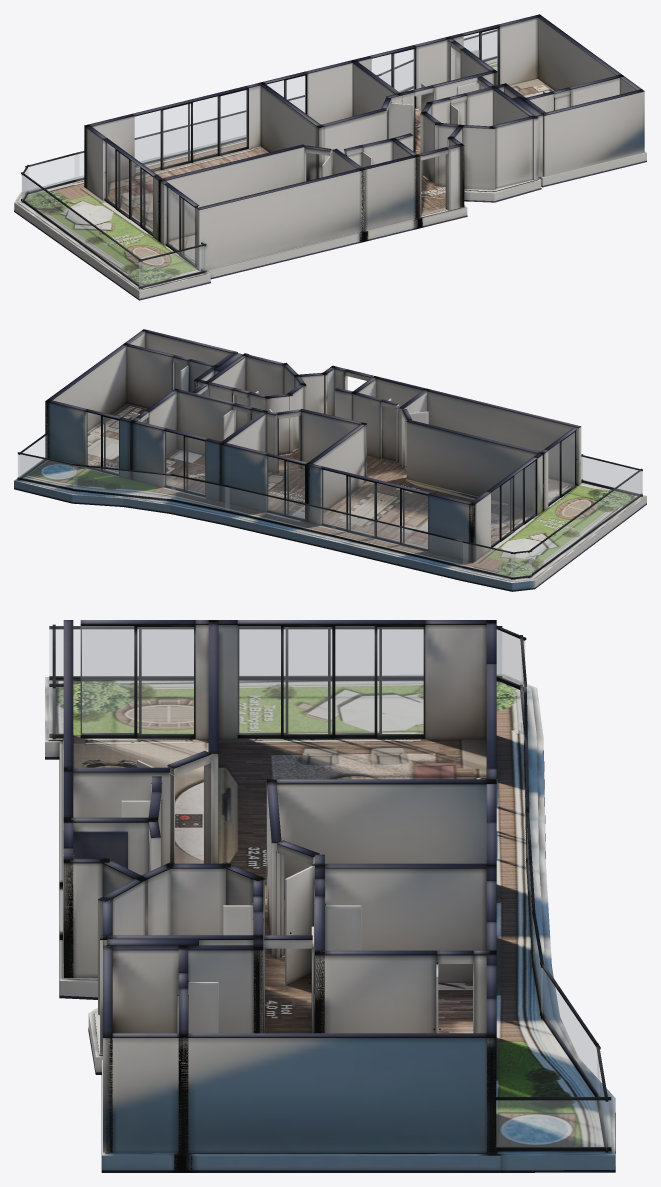
3 renders of one model, top to bottom at view 1: azimuth 30°, elevation 25°; view 2: azimuth 150°, elevation 25°; view 3: azimuth 270°, elevation 25°, orthographic. The views are drawn at different scales.
Parts seen in each view (by area): view 1: plan, glass0_m, railg10_m, glass1_m, railg15_m, railg5_m, glass2_m, glass4_m, railg16_m, glass5_m, railg14_m, glass3_m (+2 smaller); view 2: plan, glass0_m, railg15_m, railg10_m, railg14_m, railg13_m, glass1_m, glass4_m, glass3_m, glass5_m, railg12_m, railg5_m (+5 smaller); view 3: plan, glass1_m, railg10_m, glass2_m, railg6_m, railg13_m, railg17_m.
Boxes of the visible parts, x1,y1,x2,y2 form: plan: (14, 14, 646, 300); glass0_m: (135, 90, 246, 173); railg10_m: (22, 175, 142, 286); glass1_m: (105, 142, 152, 232); railg15_m: (75, 121, 213, 179); railg5_m: (139, 246, 206, 286); glass2_m: (166, 187, 194, 263); glass4_m: (372, 49, 414, 92); railg16_m: (26, 154, 78, 191); glass5_m: (464, 29, 497, 71); railg14_m: (221, 97, 304, 142); glass3_m: (267, 76, 305, 112); plan: (14, 329, 646, 591); glass0_m: (322, 470, 427, 548); railg15_m: (332, 511, 467, 566); railg10_m: (528, 471, 641, 575); railg14_m: (225, 487, 335, 534); railg13_m: (73, 465, 174, 499); glass1_m: (491, 461, 535, 545); glass4_m: (165, 431, 204, 494); glass3_m: (267, 456, 304, 518); glass5_m: (86, 412, 118, 473); railg12_m: (18, 454, 77, 489); railg5_m: (581, 457, 642, 494); plan: (45, 620, 615, 1172); glass1_m: (238, 626, 423, 734); railg10_m: (49, 629, 501, 676); glass2_m: (81, 626, 193, 734); railg6_m: (496, 1100, 610, 1147); railg13_m: (541, 968, 598, 1095); railg17_m: (497, 630, 524, 686).
Size of the model in its own units: 20.26 by 2.62 by 10.16.
Materials: 2 (1 with a texture image).
